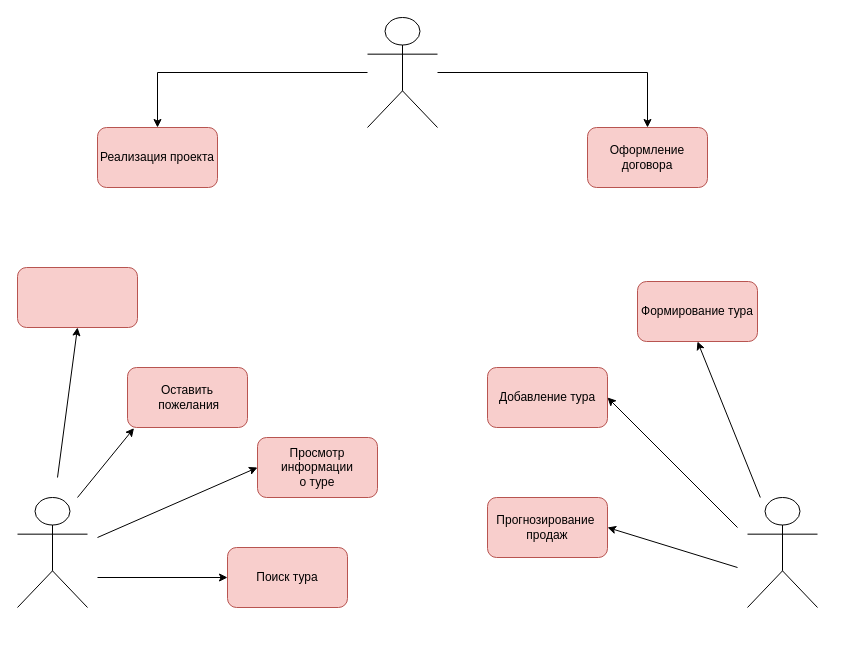
Some shapes in this 845 by 651 pixel diagram are drawn without their labels. Each missing label, with the box of its shape:
Бронирование тура: (16, 266, 138, 328)
Клиент: (16, 496, 88, 608)
Турагент: (366, 16, 438, 128)
Туроператор: (746, 496, 818, 608)
